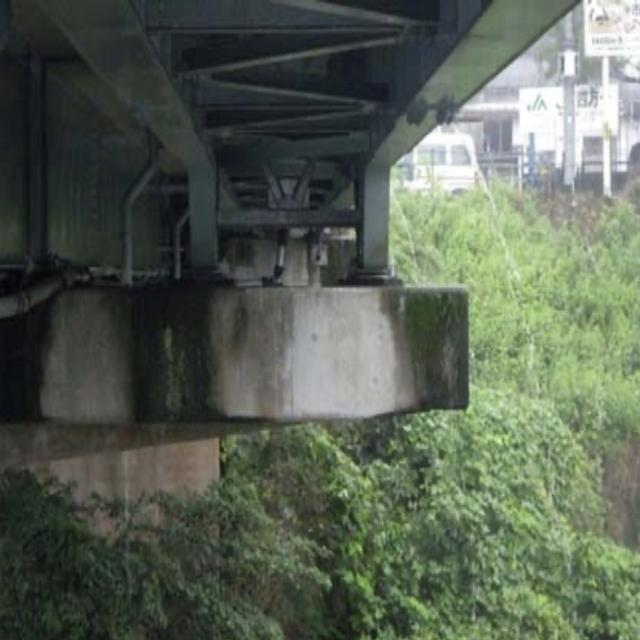leakage: (119, 271, 288, 423), (384, 273, 482, 428)
